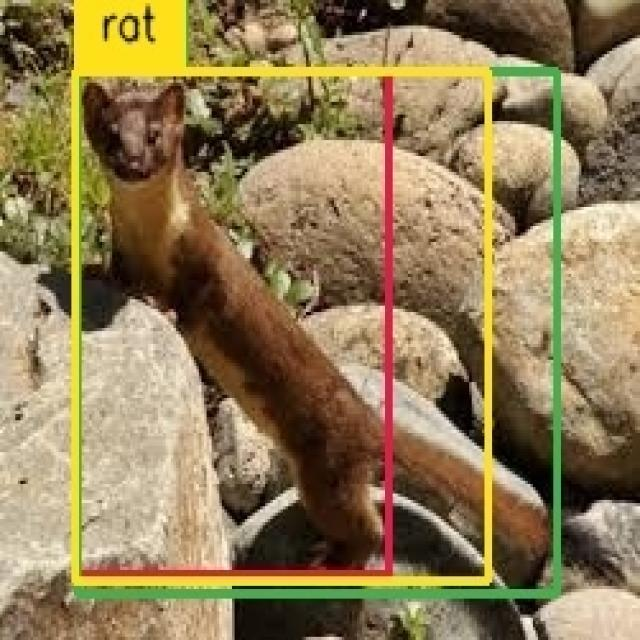rat: (76, 71, 556, 594), (77, 70, 490, 580), (78, 73, 389, 573)
